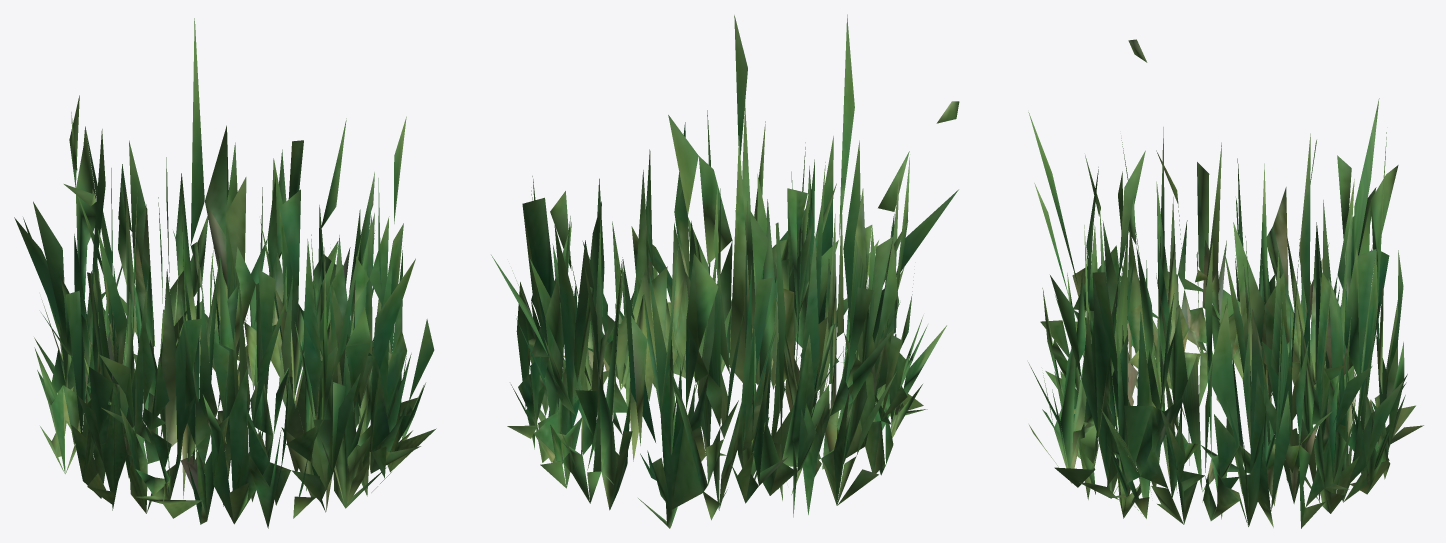
The model's file is grass_tall.glb.
3 views of the same model, side by side, from view 1: azimuth 30°, elevation 25°; view 2: azimuth 150°, elevation 25°; view 3: azimuth 270°, elevation 25° (orthographic). The views are drawn at different scales.
Parts seen in each view (by area): view 1: plant; view 2: plant; view 3: plant.
Part boxes in pixels (x1,y1,x2,y2): plant: (14,18,436,528); plant: (491,14,959,528); plant: (1028,39,1423,528).
Bounding box in the file's own units: 1.06 × 1 × 1.04.
1 material, 1 textured.
